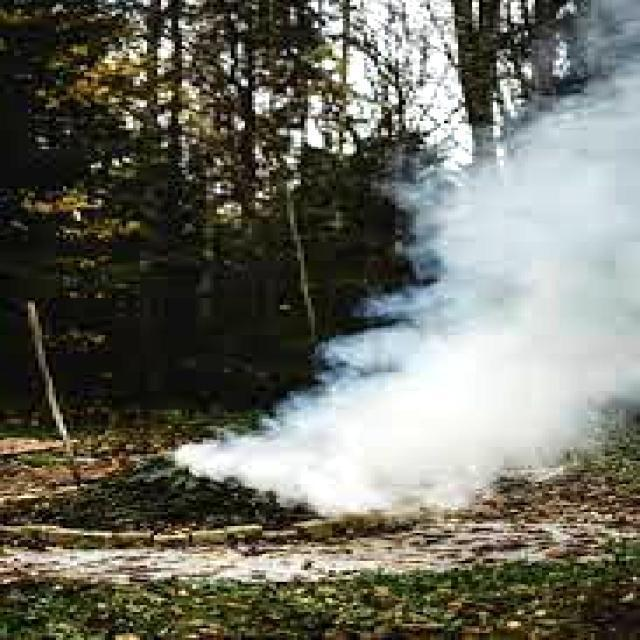Smoke: (203, 81, 640, 532)
